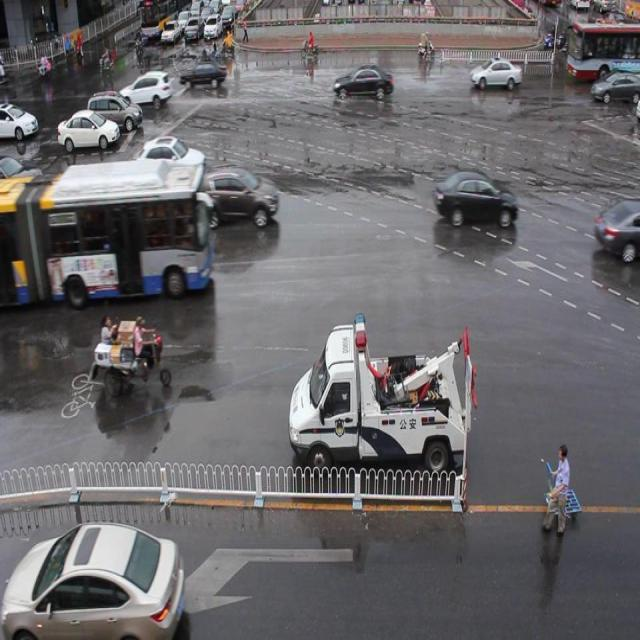car: (186, 164, 278, 226), (433, 168, 518, 230), (133, 136, 206, 186), (593, 196, 640, 259), (332, 66, 392, 102), (469, 58, 521, 93), (180, 61, 227, 92)
van: (1, 162, 212, 299)
